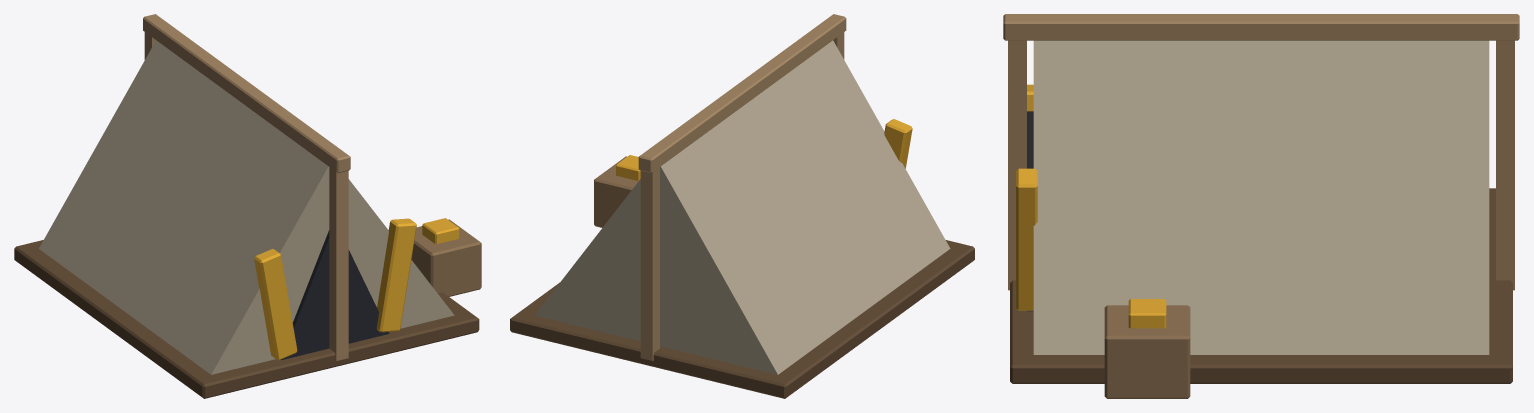
Rendered from Stylized_Landmark_CampTentTan.fbx.
The picture shows the model from 3 angles, left to right: view 1: azimuth 30°, elevation 25°; view 2: azimuth 150°, elevation 25°; view 3: azimuth 270°, elevation 25°; orthographic projection. The views are drawn at different scales.
Parts seen in each view (by area): view 1: Stylized_Landmark_CampTentTan; view 2: Stylized_Landmark_CampTentTan; view 3: Stylized_Landmark_CampTentTan.
Part boxes in pixels (x1,y1,x2,y2): Stylized_Landmark_CampTentTan: [14, 14, 481, 398]; Stylized_Landmark_CampTentTan: [510, 14, 974, 398]; Stylized_Landmark_CampTentTan: [1003, 14, 1519, 398].
Size of the model in its own units: 3.59 by 2.29 by 3.85.
